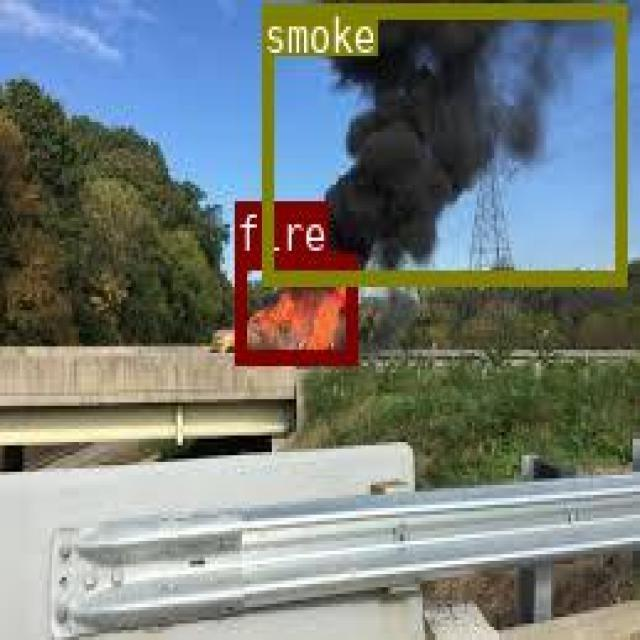fire: (233, 252, 356, 360)
smoke: (261, 3, 624, 282)
